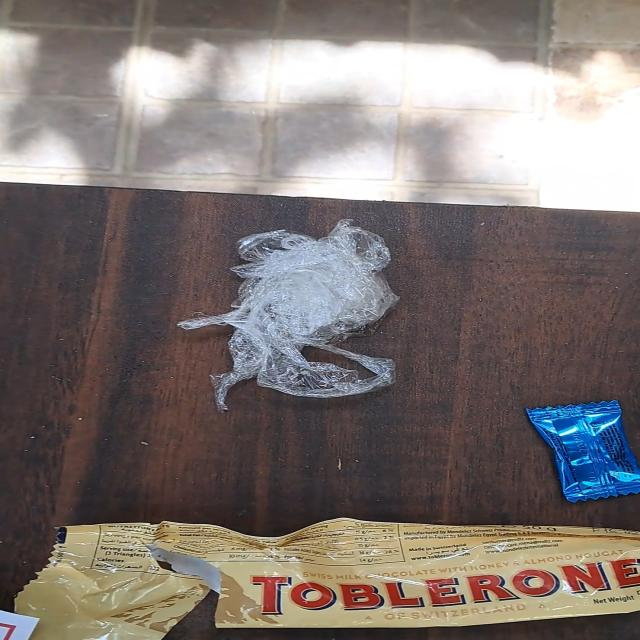Anorganik: (9, 513, 640, 640), (180, 210, 430, 418), (512, 390, 640, 510)
